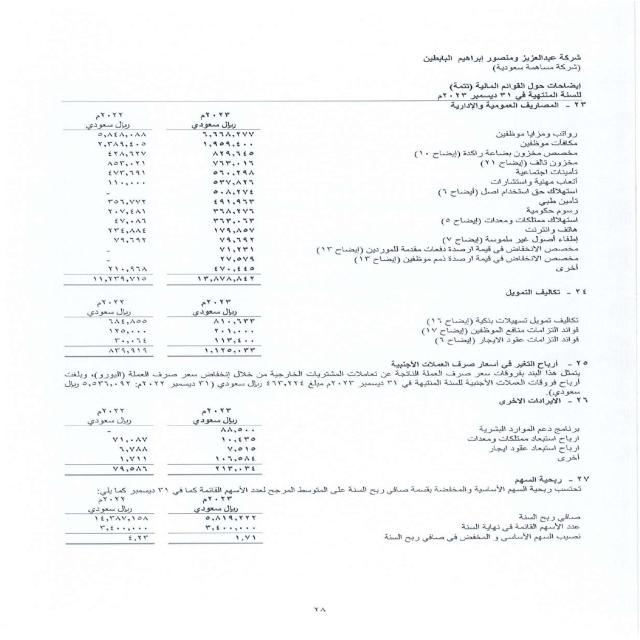notes: (440, 81, 584, 95)
table: (50, 107, 265, 290), (55, 401, 278, 479), (35, 491, 282, 555), (54, 293, 258, 366)
